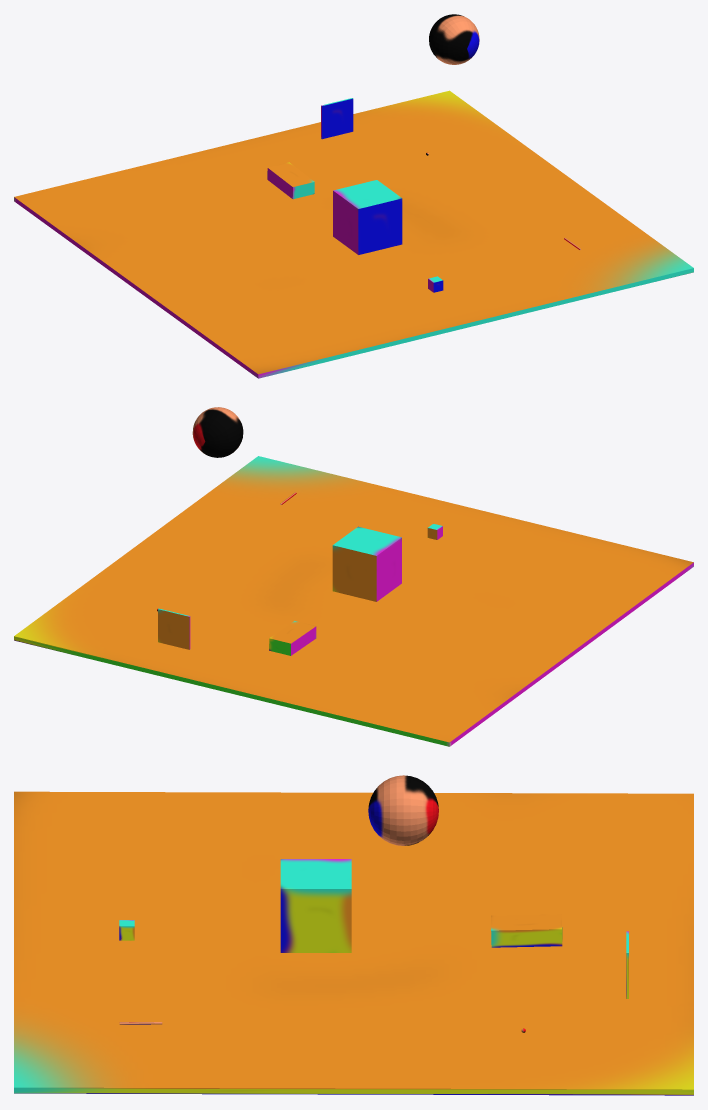
File: light.gltf
3 views of the same model, one above another, from view 1: azimuth 30°, elevation 25°; view 2: azimuth 150°, elevation 25°; view 3: azimuth 270°, elevation 25° (orthographic). The views are drawn at different scales.
Parts seen in each view (by area): view 1: Ground, Cube.001, Sphere, Cube.003, Target; view 2: Ground, Cube.001, Sphere, Target, Cube.003; view 3: Ground, Cube.001, Sphere, Cube.003.
Boxes of the visible parts, x1,y1,x2,y2 form: Ground: (14, 90, 693, 378); Cube.001: (333, 180, 402, 254); Sphere: (429, 14, 479, 64); Cube.003: (267, 162, 314, 199); Target: (321, 98, 353, 139); Ground: (14, 456, 693, 746); Cube.001: (332, 526, 401, 601); Sphere: (192, 407, 243, 457); Target: (158, 608, 190, 649); Cube.003: (269, 621, 316, 655); Ground: (14, 791, 693, 1095); Cube.001: (280, 859, 351, 952); Sphere: (368, 775, 438, 845); Cube.003: (491, 914, 562, 947).
Bounding box in the file's own units: 19.8 × 7.77 × 19.23.
2 materials, 2 textured.
